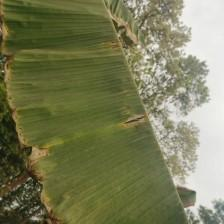pestalotiopsis: (0, 4, 188, 224)
